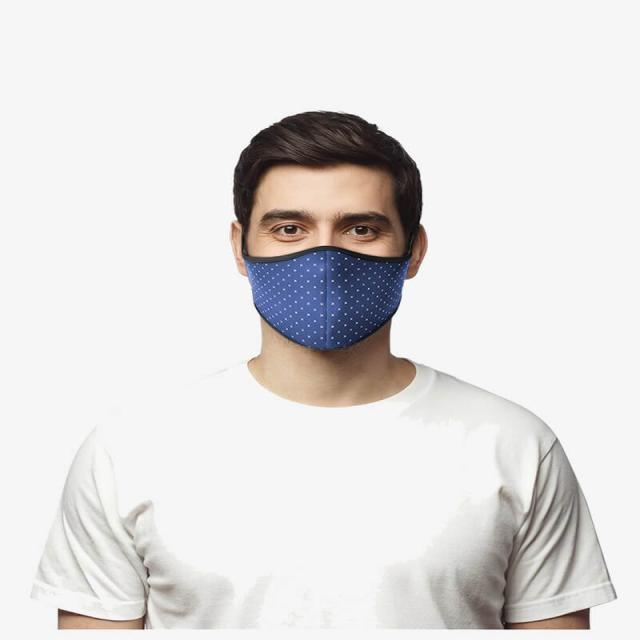mask: (218, 232, 444, 374)
